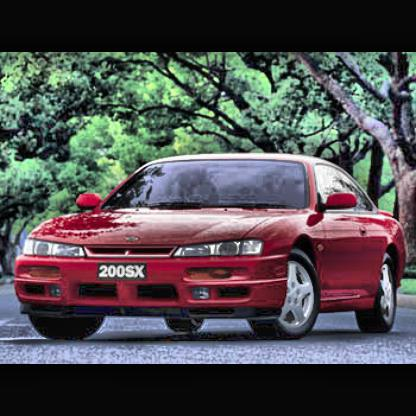Nissan 240SX Coupe 1998: (12, 157, 405, 338)
